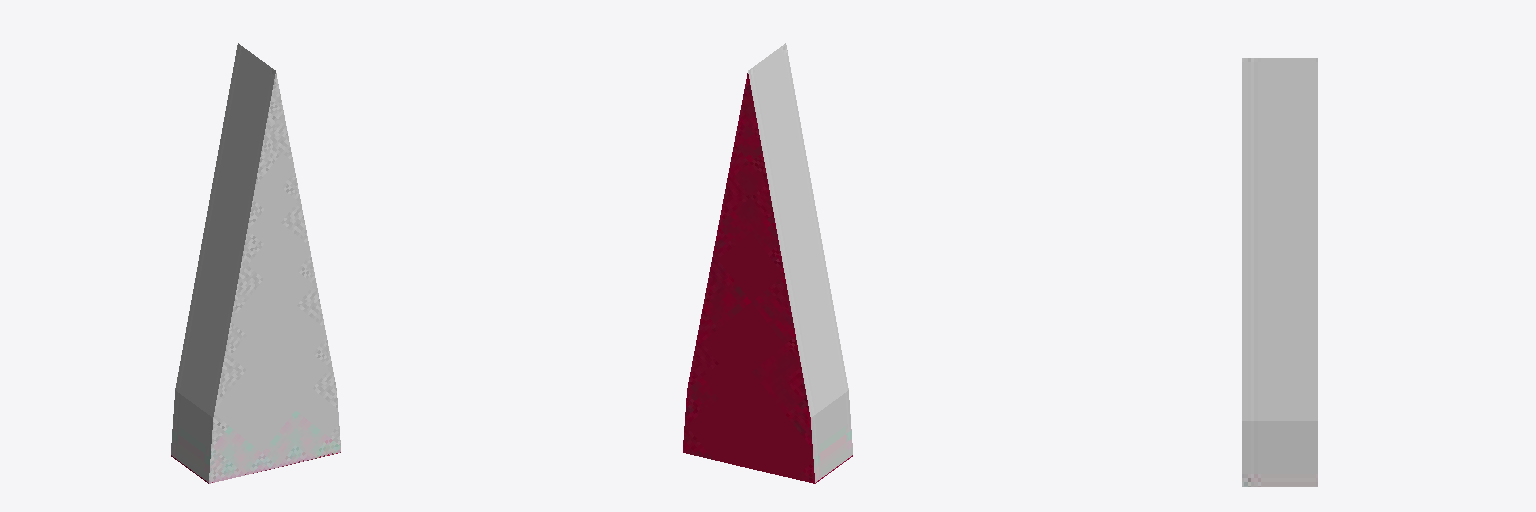
The picture shows the model from 3 angles: view 1: azimuth 30°, elevation 25°; view 2: azimuth 150°, elevation 25°; view 3: azimuth 270°, elevation 25°; orthographic projection.
Parts seen in each view (by area): view 1: compas_1_Mesh; view 2: compas_1_Mesh; view 3: compas_1_Mesh.
Part boxes in pixels (left/top/right/bottom): compas_1_Mesh: left=171, top=43, right=340, bottom=483; compas_1_Mesh: left=683, top=43, right=852, bottom=483; compas_1_Mesh: left=1242, top=58, right=1317, bottom=486.
Bounding box in the file's own units: 0.0473 × 0.1355 × 0.0236.
Materials: 1 (1 with a texture image).